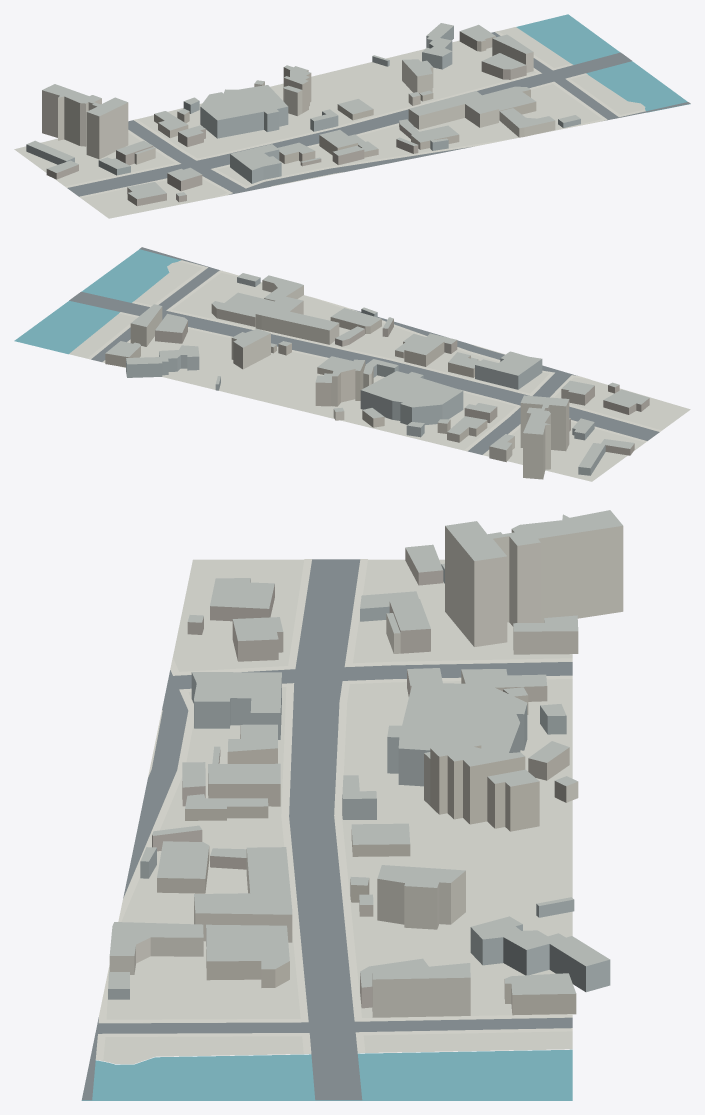
3 renders of one model, top to bottom at view 1: azimuth 30°, elevation 25°; view 2: azimuth 150°, elevation 25°; view 3: azimuth 270°, elevation 25°, orthographic. The views are drawn at different scales.
Visible parts, largest first — view 1: city; view 2: city; view 3: city.
Boxes of the visible parts, x1,y1,x2,y2 form: city: (14,14,690,218); city: (14,247,690,481); city: (81,510,623,1100).
Size of the model in its own units: 502 by 37.28 by 212.
